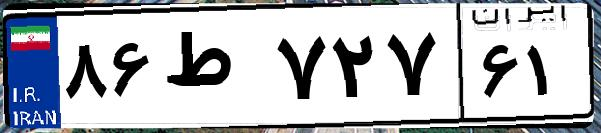1: (525, 38, 570, 115)
2: (330, 28, 385, 110)
6: (475, 38, 525, 113), (110, 28, 158, 98)
7: (270, 28, 330, 110), (385, 28, 445, 110)
8: (57, 26, 110, 100)
ط: (158, 20, 270, 120)
